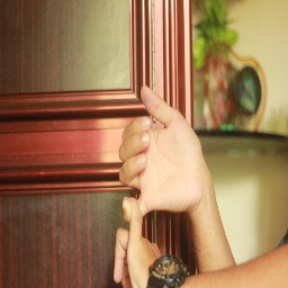S: (106, 83, 209, 286)
